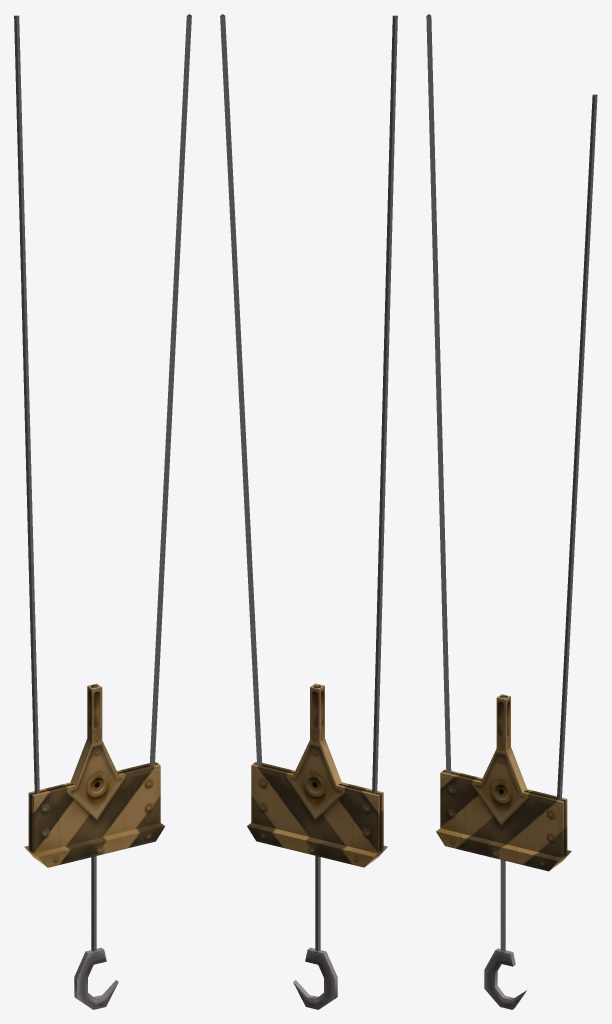
The model's file is Hook01.fbx.
3 views of the same model, side by side, from view 1: azimuth 30°, elevation 25°; view 2: azimuth 150°, elevation 25°; view 3: azimuth 330°, elevation 25° (orthographic). The views are drawn at different scales.
Parts seen in each view (by area): view 1: Hook01; view 2: Hook01; view 3: Hook01.
Part boxes in pixels (box(x1,y1,x2,y2)): Hook01: box(14, 14, 191, 1009); Hook01: box(220, 14, 397, 1009); Hook01: box(426, 14, 597, 1009).
Size of the model in its own units: 1226 by 6758 by 173.
